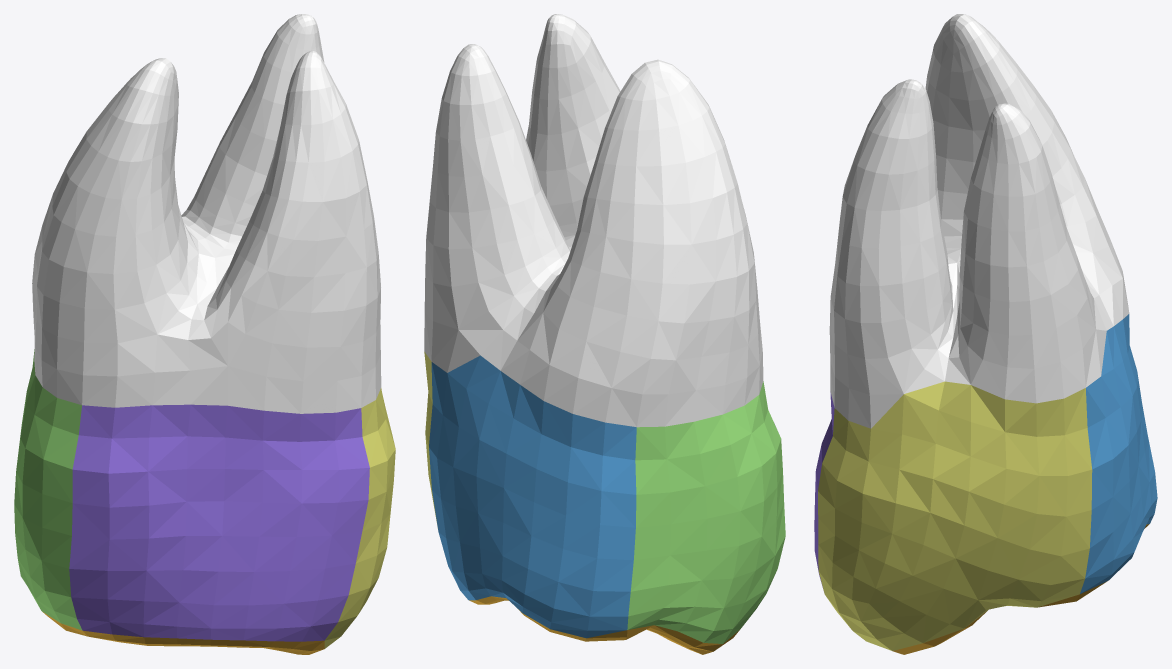
The model's file is tooth_27_annotated.glb.
The picture shows the model from 3 angles, left to right: view 1: azimuth 30°, elevation 25°; view 2: azimuth 150°, elevation 25°; view 3: azimuth 270°, elevation 25°; orthographic projection.
Visible parts, largest first — view 1: FDI_27; view 2: FDI_27; view 3: FDI_27.
Boxes of the visible parts, x1=… form: FDI_27: x1=14, y1=14, x2=395, y2=654; FDI_27: x1=424, y1=14, x2=785, y2=654; FDI_27: x1=814, y1=14, x2=1157, y2=654.
Size of the model in its own units: 0.00896 by 0.0153 by 0.00821.
